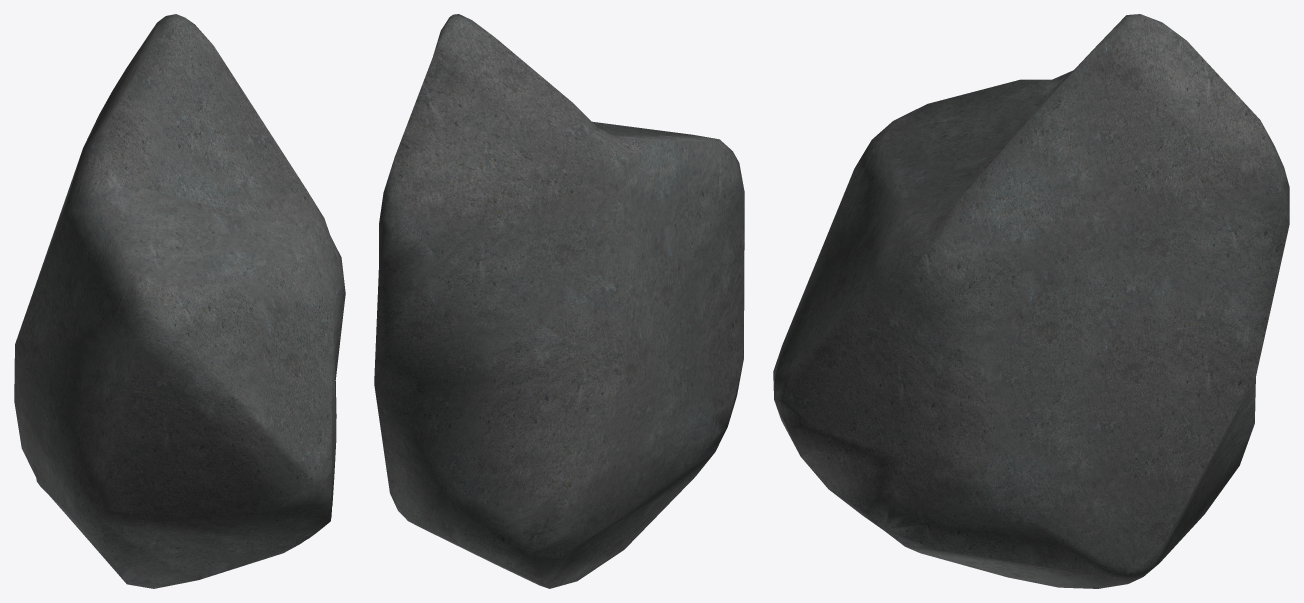
File: rock.005.obj
The picture shows the model from 3 angles, left to right: view 1: azimuth 30°, elevation 25°; view 2: azimuth 150°, elevation 25°; view 3: azimuth 270°, elevation 25°; orthographic projection. The views are drawn at different scales.
Bounding box in the file's own units: 0.7274 × 1.47 × 1.15.
1 material, 1 textured.
